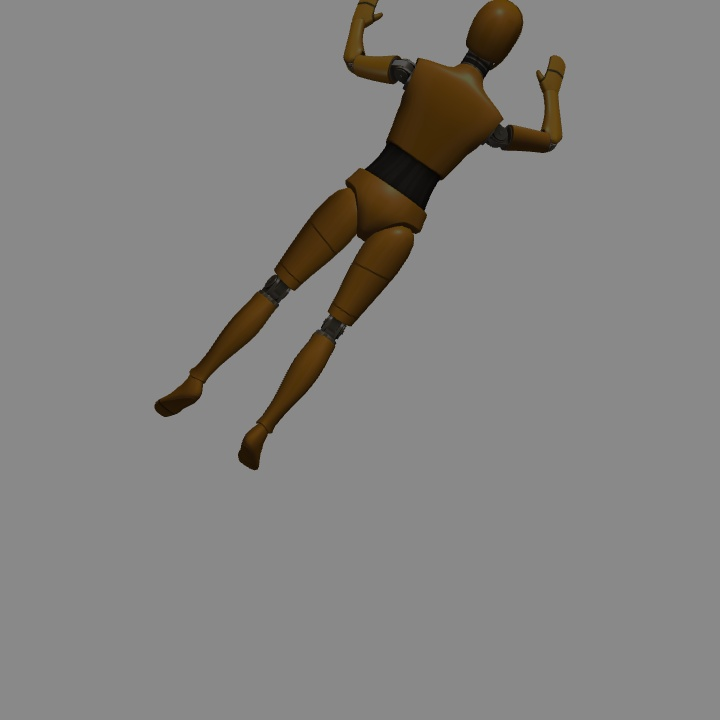victim: (155, 1, 559, 470)
